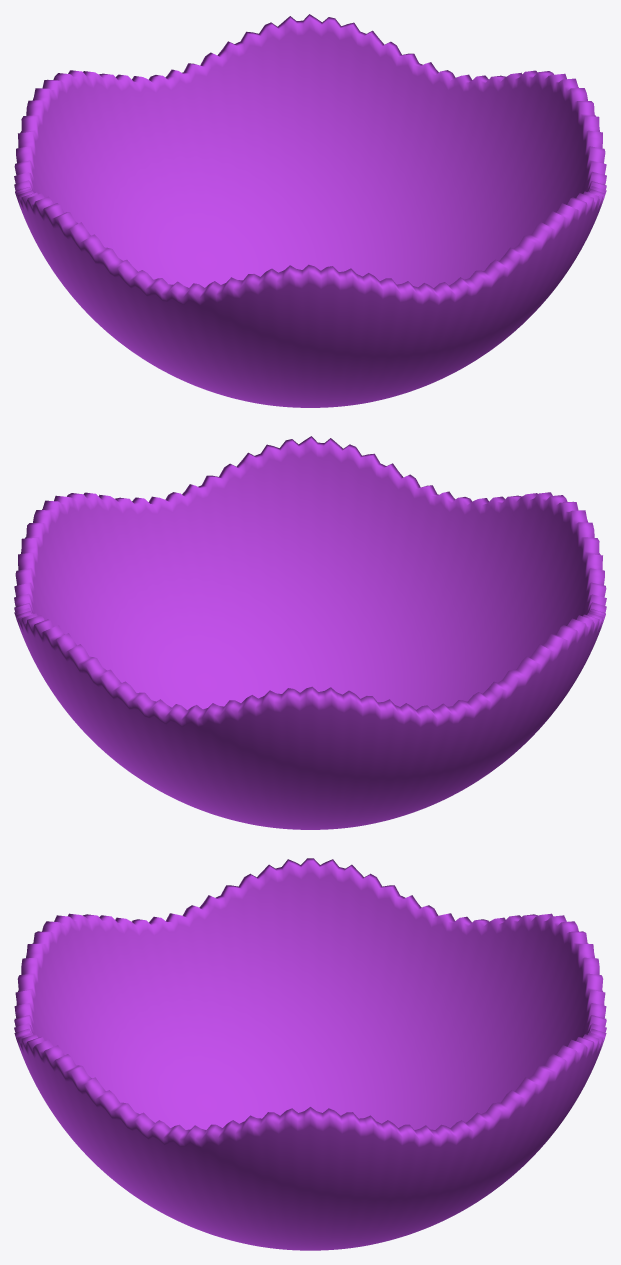
Rendered from pialedisp.glb.
3 views of the same model, one above another, from view 1: azimuth 30°, elevation 25°; view 2: azimuth 150°, elevation 25°; view 3: azimuth 270°, elevation 25° (orthographic).
Parts seen in each view (by area): view 1: candy_wave; view 2: candy_wave; view 3: candy_wave.
Part boxes in pixels (<box>): candy_wave: <box>14,14,606,407</box>; candy_wave: <box>14,436,606,829</box>; candy_wave: <box>14,858,606,1250</box>.
Size of the model in its own units: 1.97 by 0.7372 by 1.91.
